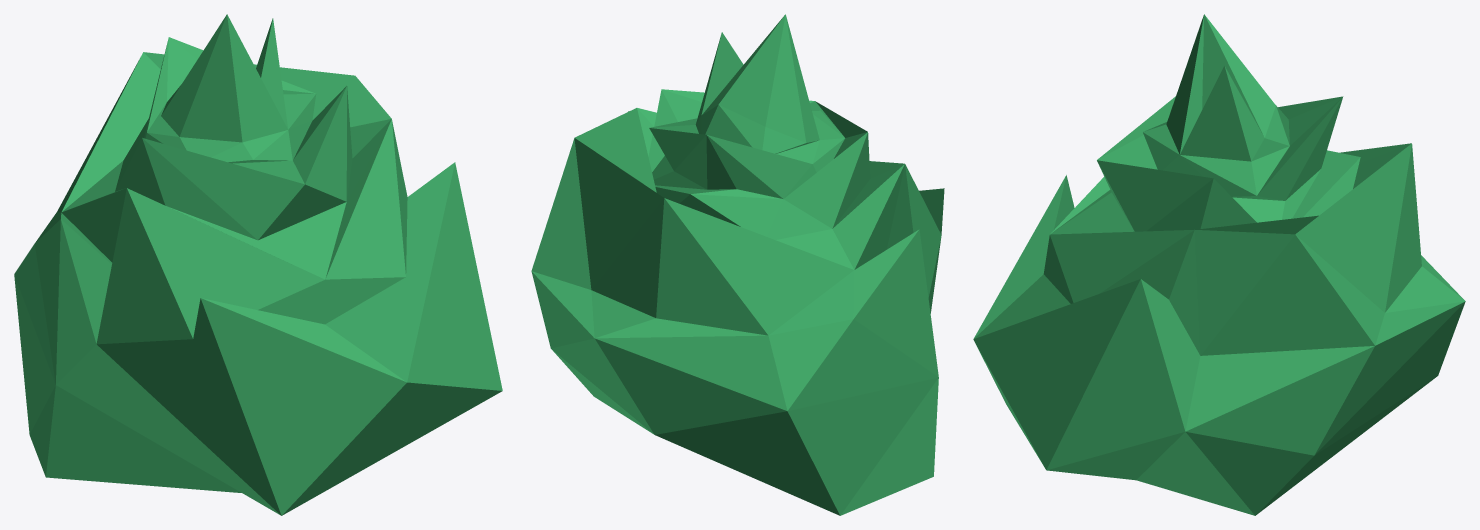
The model's file is bush7.fbx.
3 views of the same model, side by side, from view 1: azimuth 30°, elevation 25°; view 2: azimuth 150°, elevation 25°; view 3: azimuth 270°, elevation 25° (orthographic). The views are drawn at different scales.
Parts seen in each view (by area): view 1: bush7; view 2: bush7; view 3: bush7.
Part boxes in pixels (x1=…): bush7: x1=14, y1=14, x2=502, y2=515; bush7: x1=531, y1=14, x2=944, y2=515; bush7: x1=973, y1=14, x2=1465, y2=515.
Bounding box in the file's own units: 89.94 × 104 × 101.
